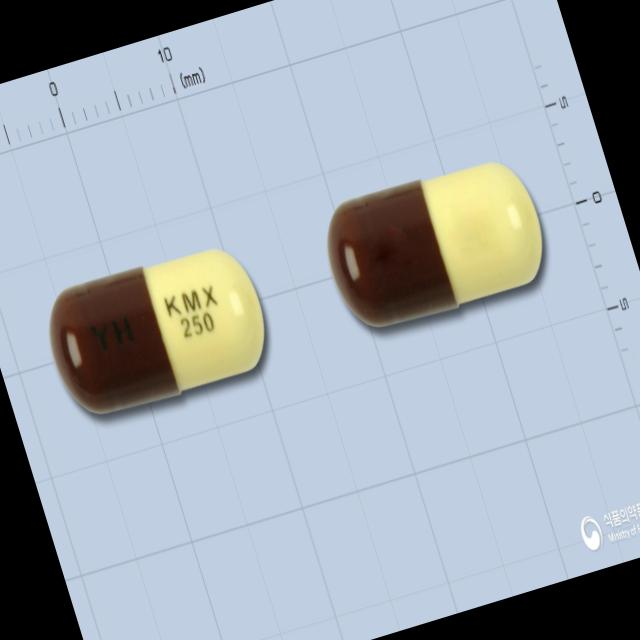Kymoxin Cap: (34, 233, 280, 427)
